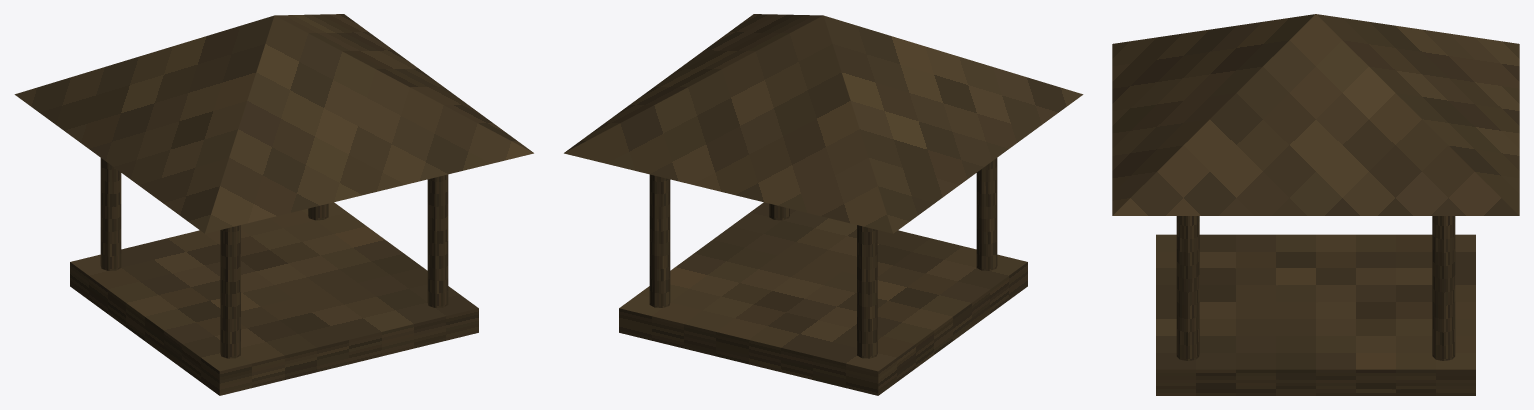
The model's file is pavilion_46.glb.
3 renders of one model, left to right at view 1: azimuth 30°, elevation 25°; view 2: azimuth 150°, elevation 25°; view 3: azimuth 270°, elevation 25°, orthographic. The views are drawn at different scales.
Visible parts, largest first — view 1: Roof, Floor, Column.002, Column, Column.001; view 2: Roof, Floor, Column.003, Column.001, Column; view 3: Roof, Floor, Column.002, Column.003.
Boxes of the visible parts, box(x1,y1,x2,y2) form: Roof: box(14, 14, 533, 233); Floor: box(70, 202, 478, 395); Column.002: box(427, 174, 448, 307); Column: box(220, 225, 240, 358); Column.001: box(100, 158, 121, 270); Roof: box(564, 14, 1083, 233); Floor: box(619, 202, 1027, 395); Column.003: box(649, 174, 670, 307); Column.001: box(857, 225, 877, 358); Column: box(976, 158, 997, 270); Roof: box(1112, 14, 1519, 215); Floor: box(1156, 234, 1475, 395); Column.002: box(1176, 216, 1199, 360); Column.003: box(1432, 216, 1455, 360).
Size of the model in its own units: 4.22 by 3.6 by 4.22.
1 material, 1 textured.
